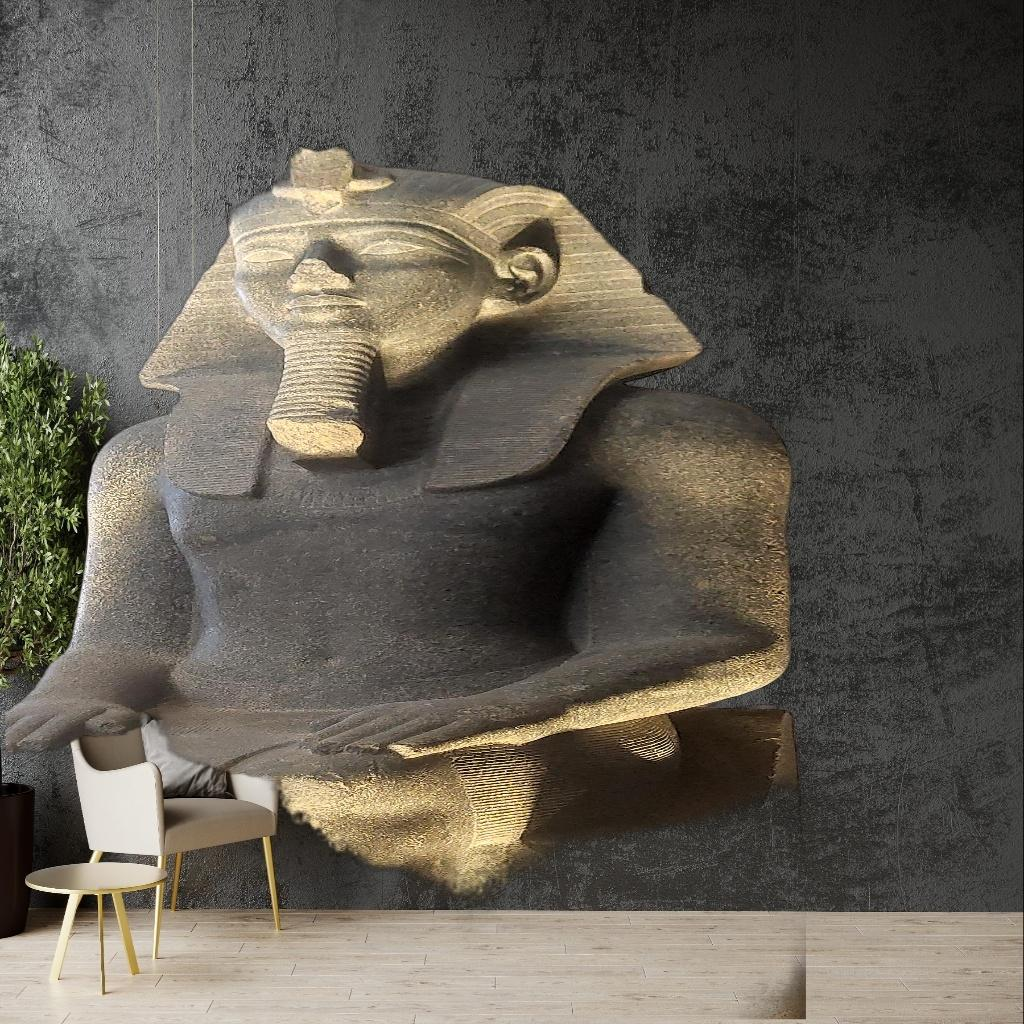Seated Statue of Amenhotep III: (6, 135, 806, 1019)
